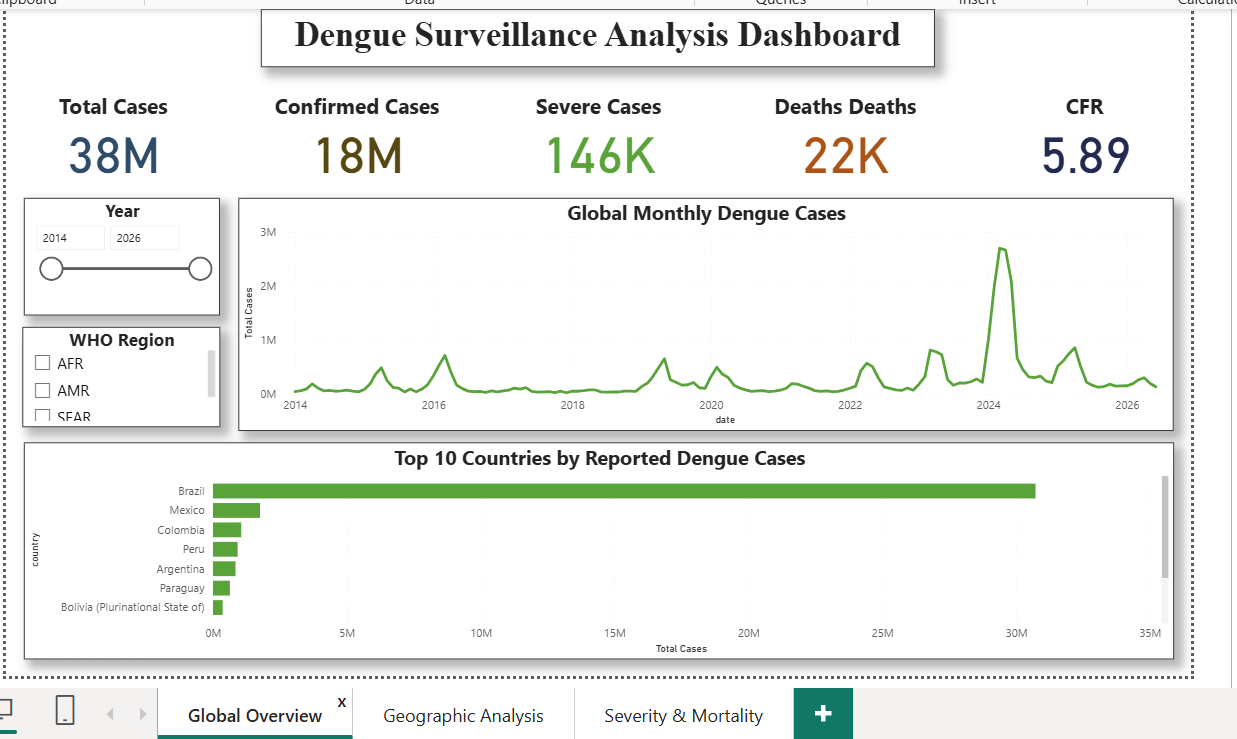

Layout of this report page (visuals, bound fields, positions):
{"tool":"powerbi","page":{"name":"Global Overview","canvas":[1280,720],"ordinal":0},"visuals":[{"type":"textbox","box":[275.9,0,727.6,62.4],"z":0},{"type":"card","title":"Total Cases","fields":{"Values":["dengue_featured.Total Cases"]},"box":[16.2,89.1,199.2,100.4],"z":1000},{"type":"card","title":"Confirmed Cases ","fields":{"Values":["dengue_featured.Confirmed Cases"]},"box":[275.3,89.1,207.3,100.4],"z":2000},{"type":"card","title":"Severe Cases ","fields":{"Values":["dengue_featured.Severe Cases"]},"box":[539.2,89.1,200.8,100.4],"z":3000},{"type":"card","title":"Deaths Deaths ","fields":{"Values":["Sum(dengue_featured.deaths)"]},"box":[809.6,89.1,192.7,100.4],"z":4000},{"type":"card","title":"CFR    ","fields":{"Values":["Sum(dengue_featured.cfr)"]},"box":[1068.7,89.1,191.1,100.4],"z":5000},{"type":"lineChart","title":"Global Monthly Dengue Cases","fields":{"Category":["dengue_featured.date"],"Y":["dengue_featured.Total Cases"]},"box":[251.3,204.1,1009.1,251.3],"z":6000},{"type":"slicer","title":"Year","fields":{"Values":["dengue_featured.year"]},"box":[18.9,204.1,211.7,126.6],"z":7000},{"type":"slicer","title":"WHO Region","fields":{"Values":["dengue_featured.who_region"]},"box":[17,343.9,213.5,107.7],"z":8000},{"type":"clusteredBarChart","title":"Top 10 Countries by Reported Dengue Cases","fields":{"Category":["dengue_featured.country"],"Y":["dengue_featured.Total Cases"]},"box":[18.9,468.7,1241.6,234.3],"z":9000}]}

Visuals, with their boxes on the page's 1280x720 design canvas (x1, y1, x2, y2). These are canvas units, not pixel positions in the 1237x739 screenshot, which may show the page scaled, cropped or inside an application window:
textbox: (276, 0, 1004, 62)
"Total Cases" card: (16, 89, 215, 190)
"Confirmed Cases " card: (275, 89, 483, 190)
"Severe Cases " card: (539, 89, 740, 190)
"Deaths Deaths " card: (810, 89, 1002, 190)
"CFR    " card: (1069, 89, 1260, 190)
"Global Monthly Dengue Cases" lineChart: (251, 204, 1260, 455)
"Year" slicer: (19, 204, 231, 331)
"WHO Region" slicer: (17, 344, 230, 452)
"Top 10 Countries by Reported Dengue Cases" clusteredBarChart: (19, 469, 1260, 703)
